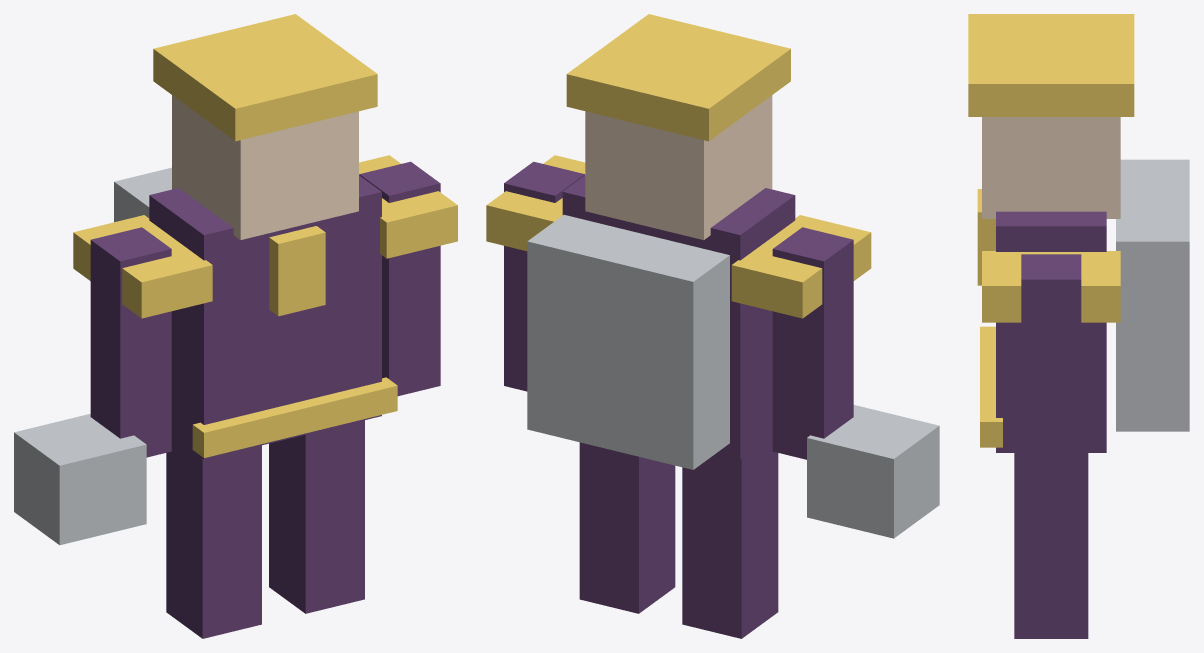
Rendered from 16_mirek_riftwalker_broker_of_prize.glb.
3 renders of one model, left to right at view 1: azimuth 30°, elevation 25°; view 2: azimuth 150°, elevation 25°; view 3: azimuth 270°, elevation 25°, orthographic.
Parts seen in each view (by area): view 1: Mirek Riftwalker, Broker of Prize; view 2: Mirek Riftwalker, Broker of Prize; view 3: Mirek Riftwalker, Broker of Prize.
Boxes of the visible parts, x1,y1,x2,y2 form: Mirek Riftwalker, Broker of Prize: (14,14,457,638); Mirek Riftwalker, Broker of Prize: (486,14,939,638); Mirek Riftwalker, Broker of Prize: (968,14,1189,638).
Size of the model in its own units: 1.06 by 1.4 by 0.5115.
